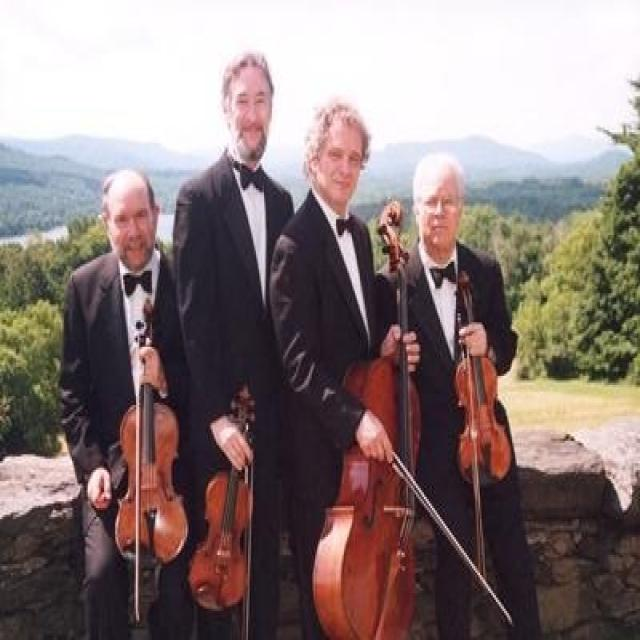cello: (311, 200, 426, 638)
violin: (115, 294, 189, 566), (188, 382, 260, 611), (456, 272, 516, 491)
